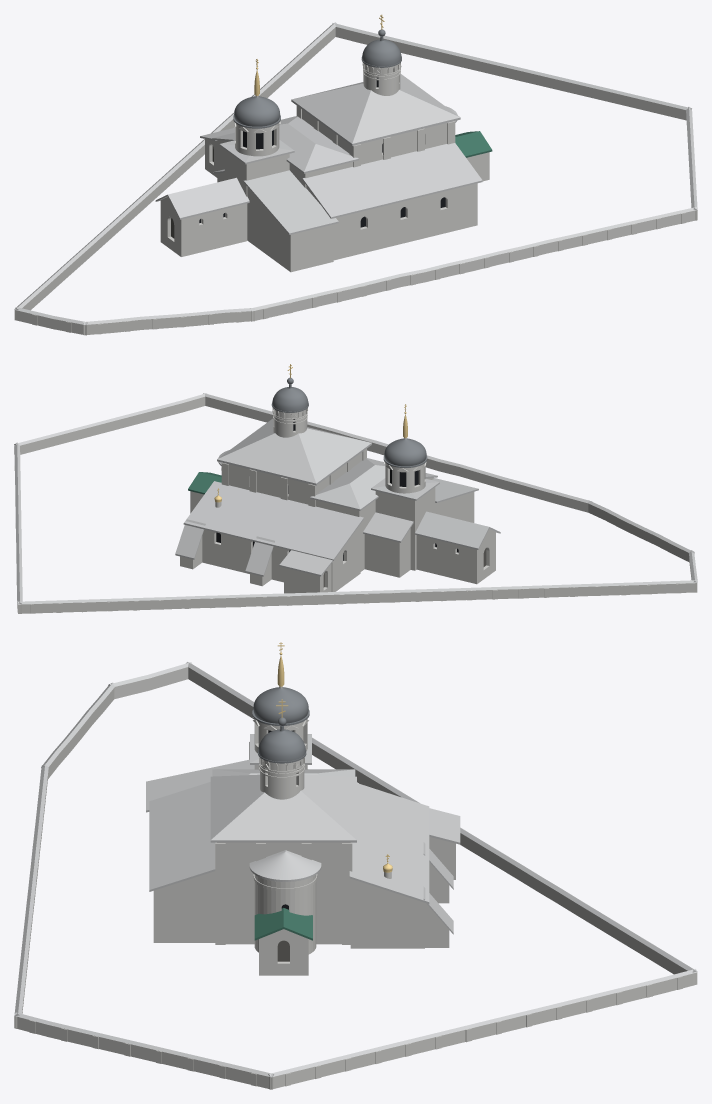
Rendered from SM_Ilya.glb.
3 renders of one model, top to bottom at view 1: azimuth 30°, elevation 25°; view 2: azimuth 150°, elevation 25°; view 3: azimuth 270°, elevation 25°, orthographic. The views are drawn at different scales.
Visible parts, largest first — view 1: SM_Ilya; view 2: SM_Ilya; view 3: SM_Ilya.
Boxes of the visible parts, left/top/right/bottom form: SM_Ilya: left=14, top=14, right=697, bottom=335; SM_Ilya: left=14, top=364, right=697, bottom=613; SM_Ilya: left=14, top=642, right=697, bottom=1089.
Bounding box in the file's own units: 89.28 × 21.8 × 61.81.
